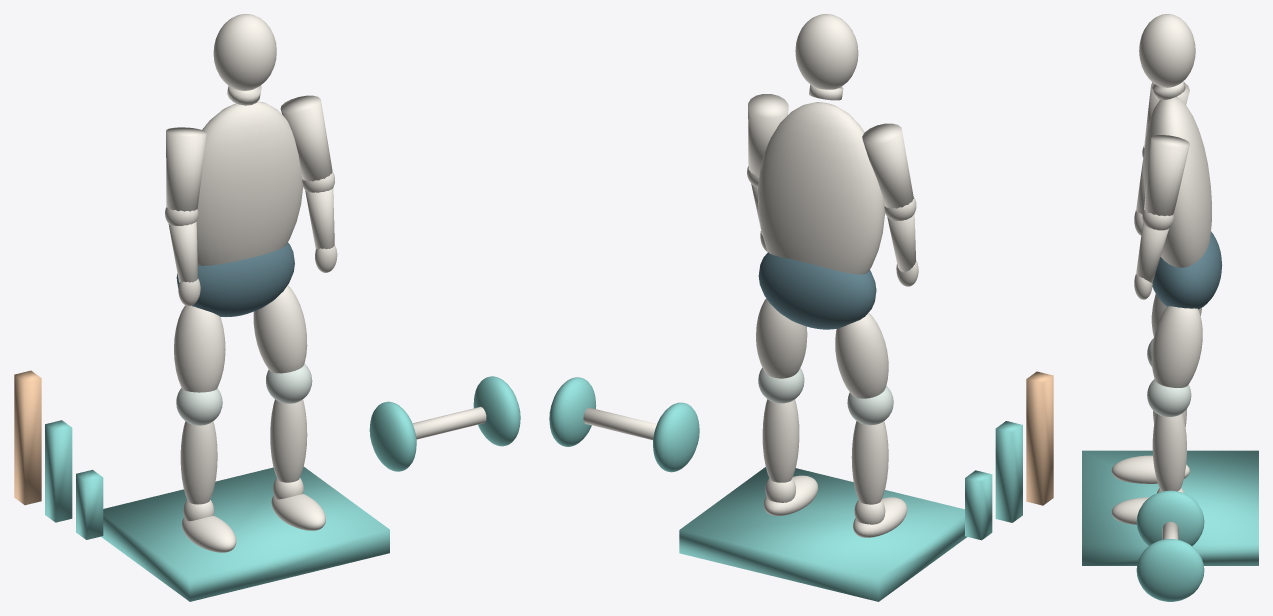
Rendered from metabolism-body.glb.
3 views of the same model, side by side, from view 1: azimuth 30°, elevation 25°; view 2: azimuth 150°, elevation 25°; view 3: azimuth 270°, elevation 25° (orthographic). The views are drawn at different scales.
Visible parts, largest first — view 1: static #eee5d3, static #49bdb4, static #203c48, static #f2a066, static #c7ddd2; view 2: static #eee5d3, static #49bdb4, static #203c48, static #f2a066, static #c7ddd2; view 3: static #eee5d3, static #49bdb4, static #203c48, static #c7ddd2.
Boxes of the visible parts, x1,y1,x2,y2 form: static #eee5d3: [165, 14, 486, 552]; static #49bdb4: [45, 376, 520, 601]; static #203c48: [176, 242, 294, 316]; static #f2a066: [14, 370, 41, 505]; static #c7ddd2: [176, 363, 312, 425]; static #eee5d3: [583, 14, 918, 537]; static #49bdb4: [549, 377, 1022, 601]; static #203c48: [758, 252, 876, 329]; static #f2a066: [1026, 371, 1053, 505]; static #c7ddd2: [758, 367, 893, 425]; static #eee5d3: [1111, 14, 1211, 539]; static #49bdb4: [1082, 450, 1258, 601]; static #203c48: [1152, 231, 1222, 309]; static #c7ddd2: [1147, 338, 1191, 416].
Bounding box in the file's own units: 0.3521 × 0.3608 × 0.115.
